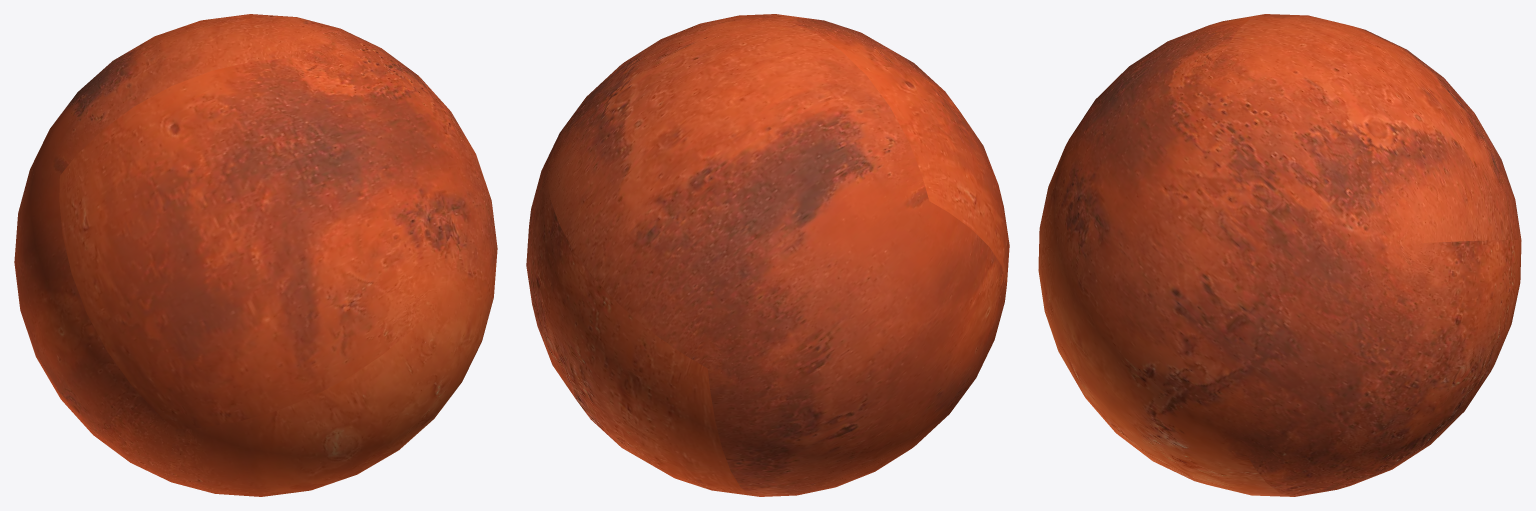
Rendered from mars.glb.
The picture shows the model from 3 angles, left to right: view 1: azimuth 30°, elevation 25°; view 2: azimuth 150°, elevation 25°; view 3: azimuth 270°, elevation 25°; orthographic projection.
Parts seen in each view (by area): view 1: Moon_Cube003; view 2: Moon_Cube003; view 3: Moon_Cube003.
Part boxes in pixels (x1,y1,x2,y2): Moon_Cube003: [14, 14, 497, 496]; Moon_Cube003: [526, 14, 1009, 496]; Moon_Cube003: [1038, 14, 1521, 496].
Bounding box in the file's own units: 1.07 × 1.07 × 1.07.
Materials: 1 (1 with a texture image).
